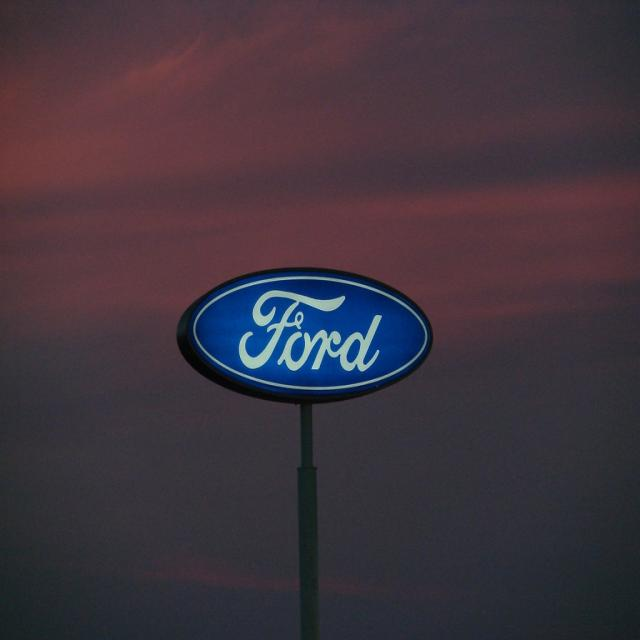ford: (177, 263, 439, 407)
